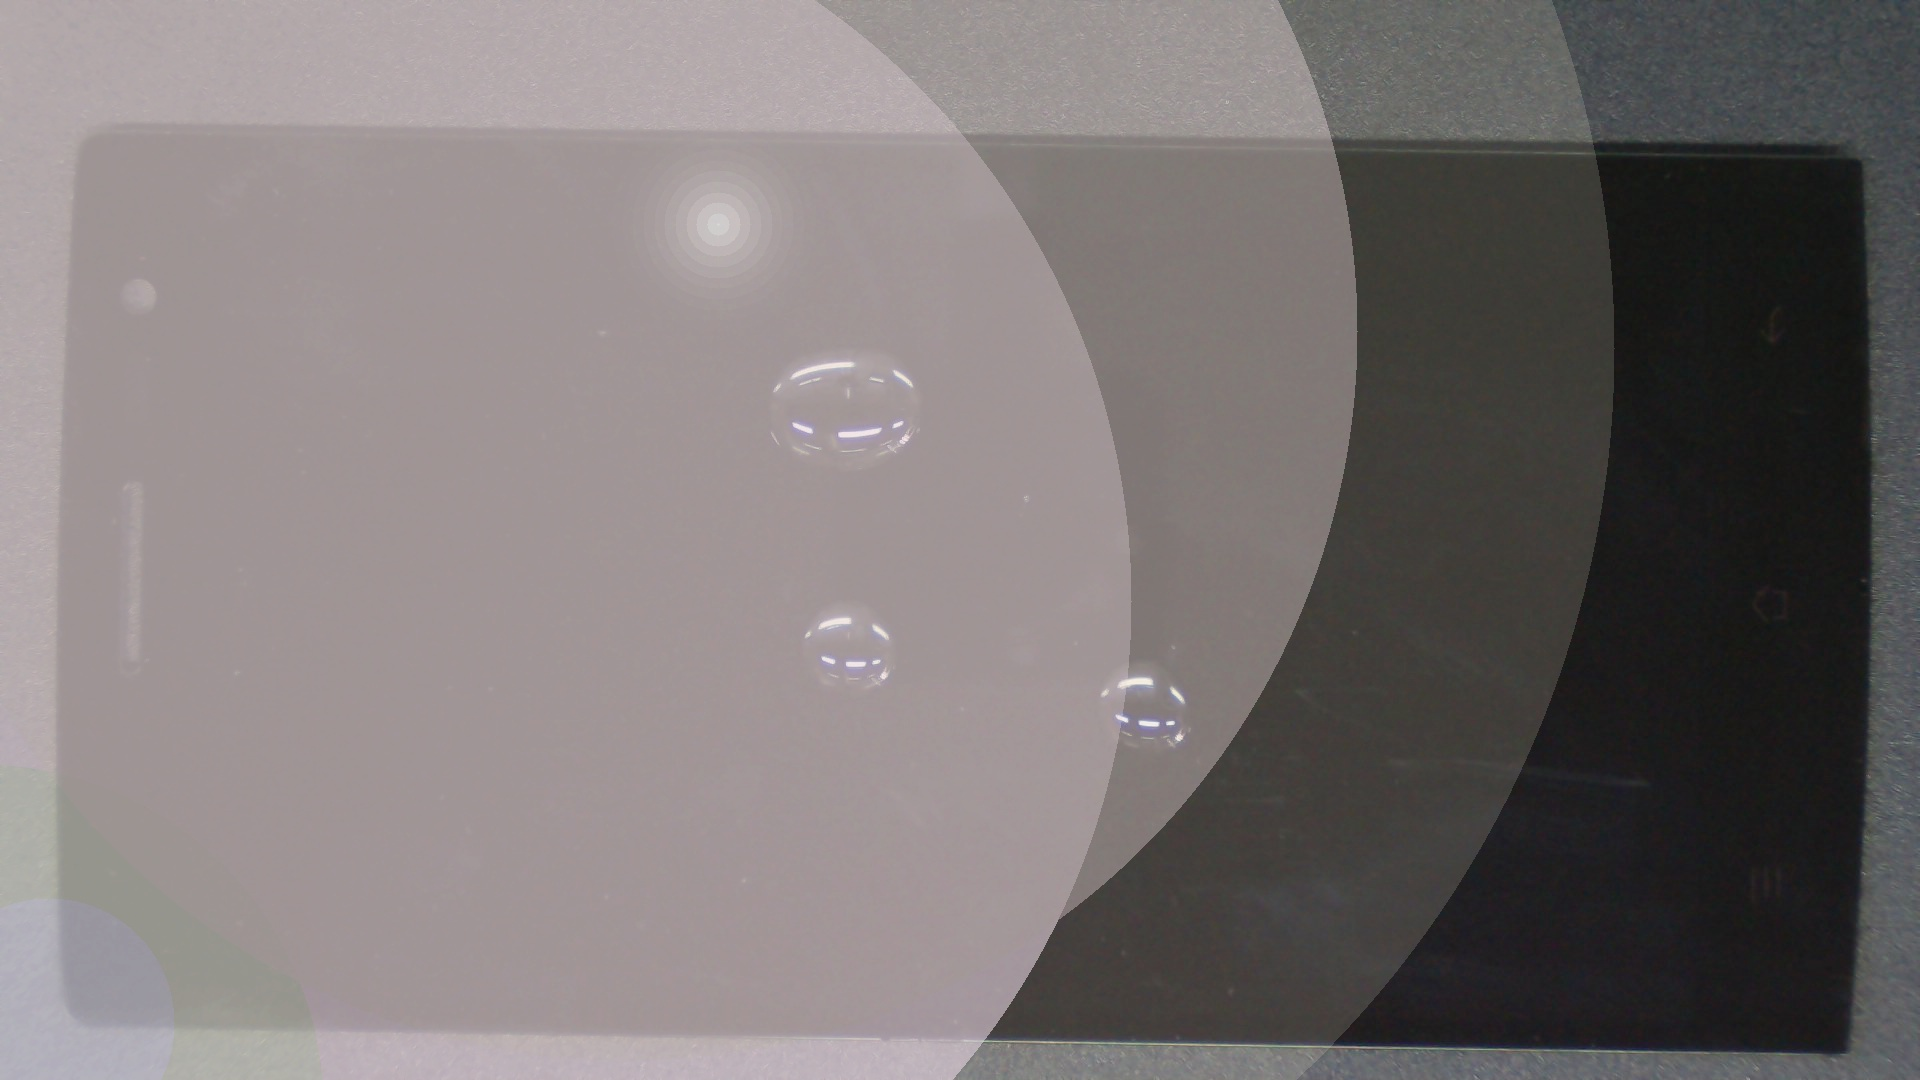oil: (570, 330, 1708, 992), (426, 299, 1276, 902), (414, 174, 1240, 522)
